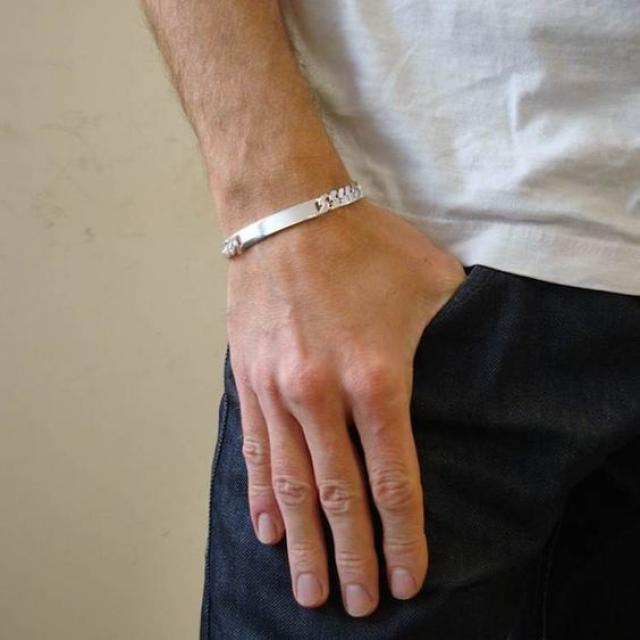Fingernail: (297, 573, 323, 607), (391, 568, 418, 599), (346, 584, 371, 617), (258, 512, 276, 542)
